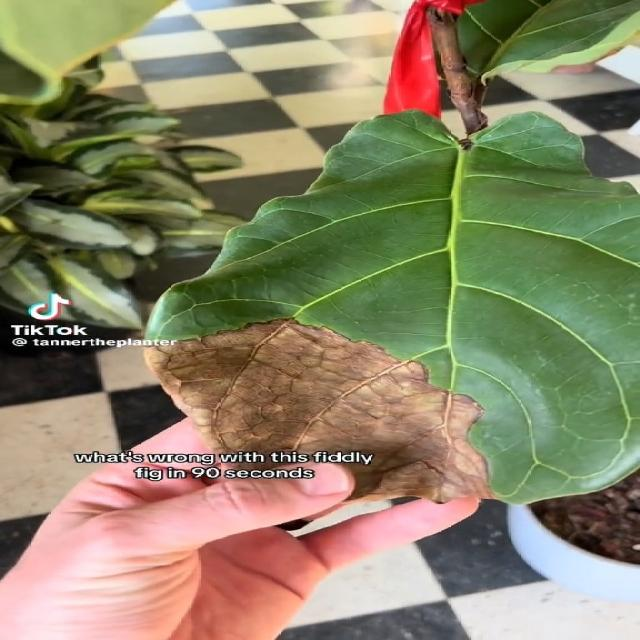lisc_suchy: (144, 109, 640, 508), (453, 0, 640, 80)
roslina_sucha: (146, 99, 640, 508)
